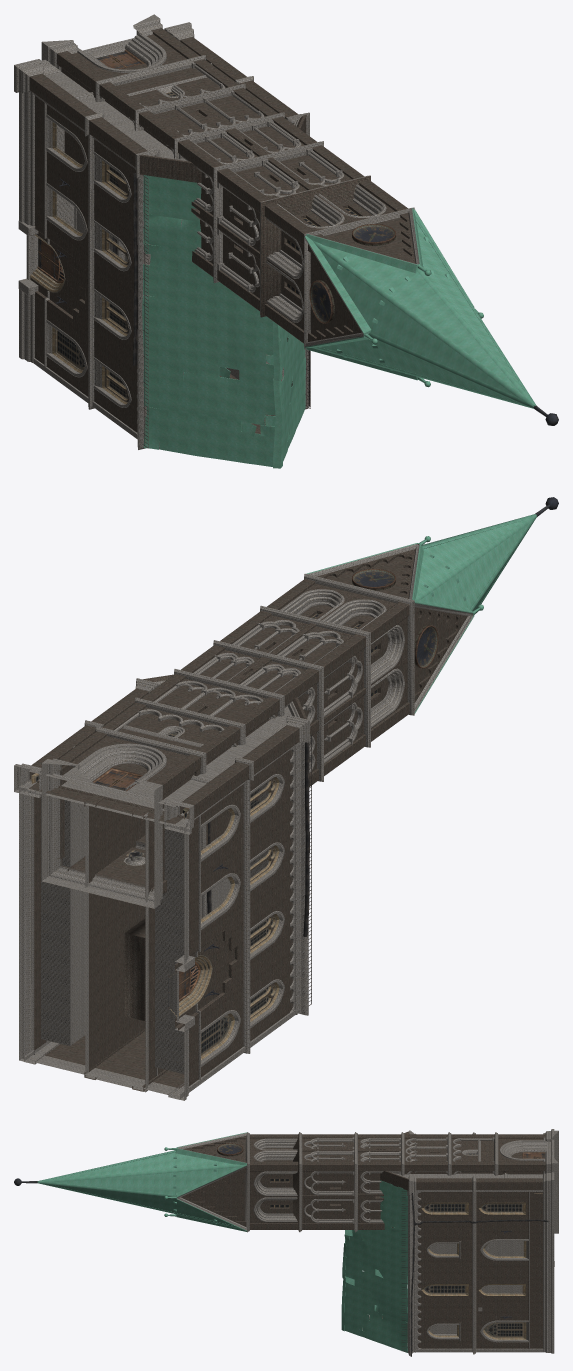
File: hd_bld_EU_056_ChurchA.fbx
3 views of the same model, one above another, from view 1: azimuth 30°, elevation 25°; view 2: azimuth 150°, elevation 25°; view 3: azimuth 270°, elevation 25° (orthographic). The views are drawn at different scales.
Visible parts, largest first — view 1: set_0_group_4.003, set_0_group_4.005, set_0_group_0.005, set_0_group_1.005, set_0_group_5.003, set_0_group_2.005, set_0_group_7.001, set_0_group_1.003, set_0_group_4, set_0_group_0.003, set_0_group_6.002, set_0_group_5.004 (+4 smaller); view 2: set_0_group_0.005, set_0_group_5.003, set_0_group_6.002, set_0_group_1.005, set_0_group_2.005, set_0_group_5.001, set_0_group_0.003, set_0_group_4.005, set_0_group_7.001, set_0_group_3.005, set_0_group_1.003, set_0_group_4 (+6 smaller); view 3: set_0_group_5.003, set_0_group_1.005, set_0_group_0.005, set_0_group_4.003, set_0_group_2.005, set_0_group_4.005, set_0_group_6.002, set_0_group_7.001, set_0_group_1.003, set_0_group_0.003, set_0_group_4, set_0_group_3.005 (+4 smaller).
Part boxes in pixels (left/top/right/bottom): set_0_group_4.003: left=142, top=175, right=305, bottom=468; set_0_group_4.005: left=304, top=208, right=536, bottom=408; set_0_group_0.005: left=77, top=33, right=419, bottom=349; set_0_group_1.005: left=57, top=28, right=415, bottom=343; set_0_group_5.003: left=30, top=96, right=292, bottom=434; set_0_group_2.005: left=61, top=34, right=410, bottom=337; set_0_group_7.001: left=30, top=122, right=310, bottom=448; set_0_group_1.003: left=44, top=103, right=131, bottom=409; set_0_group_4: left=29, top=37, right=306, bottom=182; set_0_group_0.003: left=18, top=91, right=38, bottom=362; set_0_group_6.002: left=33, top=93, right=308, bottom=449; set_0_group_5.004: left=96, top=49, right=558, bottom=425; set_0_group_0.005: left=74, top=544, right=473, bottom=865; set_0_group_5.003: left=34, top=750, right=292, bottom=1088; set_0_group_6.002: left=24, top=742, right=308, bottom=1099; set_0_group_1.005: left=57, top=544, right=473, bottom=893; set_0_group_2.005: left=60, top=557, right=456, bottom=889; set_0_group_5.001: left=89, top=806, right=164, bottom=1083; set_0_group_0.003: left=19, top=782, right=194, bottom=1100; set_0_group_4.005: left=306, top=514, right=536, bottom=713; set_0_group_7.001: left=168, top=734, right=311, bottom=1060; set_0_group_3.005: left=41, top=623, right=352, bottom=908; set_0_group_1.003: left=46, top=774, right=284, bottom=1079; set_0_group_4: left=29, top=674, right=307, bottom=824; set_0_group_5.003: left=369, top=1192, right=554, bottom=1348; set_0_group_1.005: left=181, top=1132, right=545, bottom=1231; set_0_group_0.005: left=177, top=1132, right=546, bottom=1232; set_0_group_4.003: left=341, top=1180, right=407, bottom=1352; set_0_group_2.005: left=192, top=1138, right=542, bottom=1221; set_0_group_4.005: left=37, top=1132, right=247, bottom=1231; set_0_group_6.002: left=362, top=1190, right=543, bottom=1355; set_0_group_7.001: left=402, top=1191, right=548, bottom=1356; set_0_group_1.003: left=426, top=1190, right=529, bottom=1354; set_0_group_0.003: left=543, top=1192, right=554, bottom=1353; set_0_group_4: left=380, top=1131, right=542, bottom=1190; set_0_group_3.005: left=317, top=1130, right=558, bottom=1233.
Size of the model in its own units: 1684 by 2836 by 7575.
